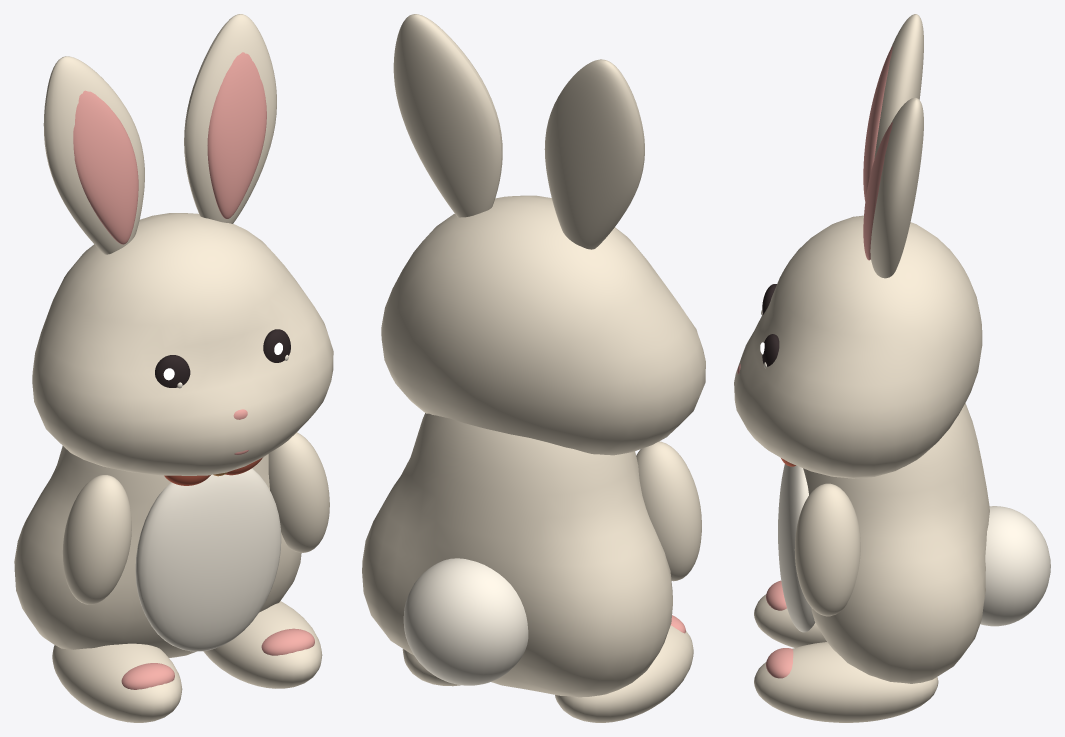
Rendered from forest-bunny.glb.
The picture shows the model from 3 angles, left to right: view 1: azimuth 30°, elevation 25°; view 2: azimuth 150°, elevation 25°; view 3: azimuth 270°, elevation 25°; orthographic projection. The views are drawn at different scales.
Visible parts, largest first — view 1: Sculpted_Head_Cheeks, Cream_Bib, Sculpted_Pear_Body, Outer_Ear (×2), Inner_Ear (×2), Forepaw (×2), Hind_Foot (×2), Paw_Pad (×2), Eye_Glass (×2); view 2: Sculpted_Head_Cheeks, Sculpted_Pear_Body, Outer_Ear (×2), Cotton_Tail, Forepaw, Hind_Foot (×2); view 3: Sculpted_Head_Cheeks, Sculpted_Pear_Body, Hind_Foot (×2), Outer_Ear (×2), Forepaw, Cotton_Tail, Cream_Bib, Inner_Ear (×2), Paw_Pad.
Part boxes in pixels (box(x1,y1,x2,y2)): Sculpted_Head_Cheeks: box(32, 213, 333, 475); Cream_Bib: box(135, 468, 281, 651); Sculpted_Pear_Body: box(14, 446, 301, 657); Outer_Ear (×2): box(43, 14, 276, 254); Inner_Ear (×2): box(73, 52, 266, 244); Forepaw (×2): box(62, 432, 329, 604); Hind_Foot (×2): box(52, 601, 322, 722); Paw_Pad (×2): box(121, 628, 314, 689); Eye_Glass (×2): box(155, 329, 290, 387); Sculpted_Head_Cheeks: box(381, 195, 705, 455); Sculpted_Pear_Body: box(362, 413, 672, 697); Outer_Ear (×2): box(393, 14, 644, 249); Cotton_Tail: box(403, 558, 528, 685); Forepaw: box(636, 441, 701, 581); Hind_Foot (×2): box(402, 625, 693, 722); Sculpted_Head_Cheeks: box(734, 215, 982, 478); Sculpted_Pear_Body: box(803, 403, 989, 683); Hind_Foot (×2): box(754, 594, 938, 722); Outer_Ear (×2): box(870, 14, 923, 278); Forepaw: box(794, 483, 860, 616); Cotton_Tail: box(980, 506, 1050, 626); Cream_Bib: box(778, 464, 815, 632); Inner_Ear (×2): box(863, 46, 892, 260); Paw_Pad: box(766, 648, 793, 678).
Size of the model in its own units: 0.785 by 1.72 by 0.7894.
